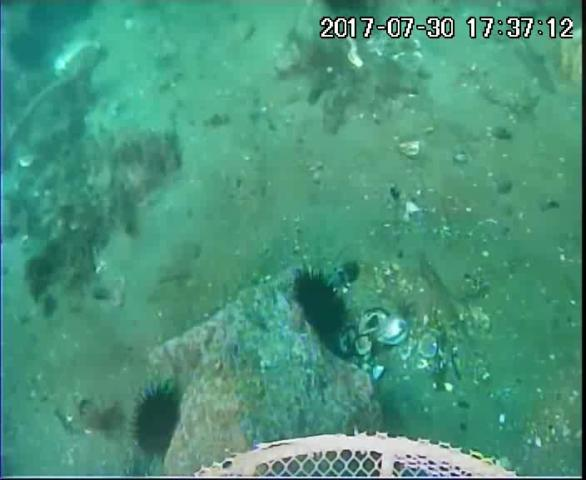echinus: (293, 270, 352, 343), (131, 387, 183, 459), (7, 29, 46, 71)
